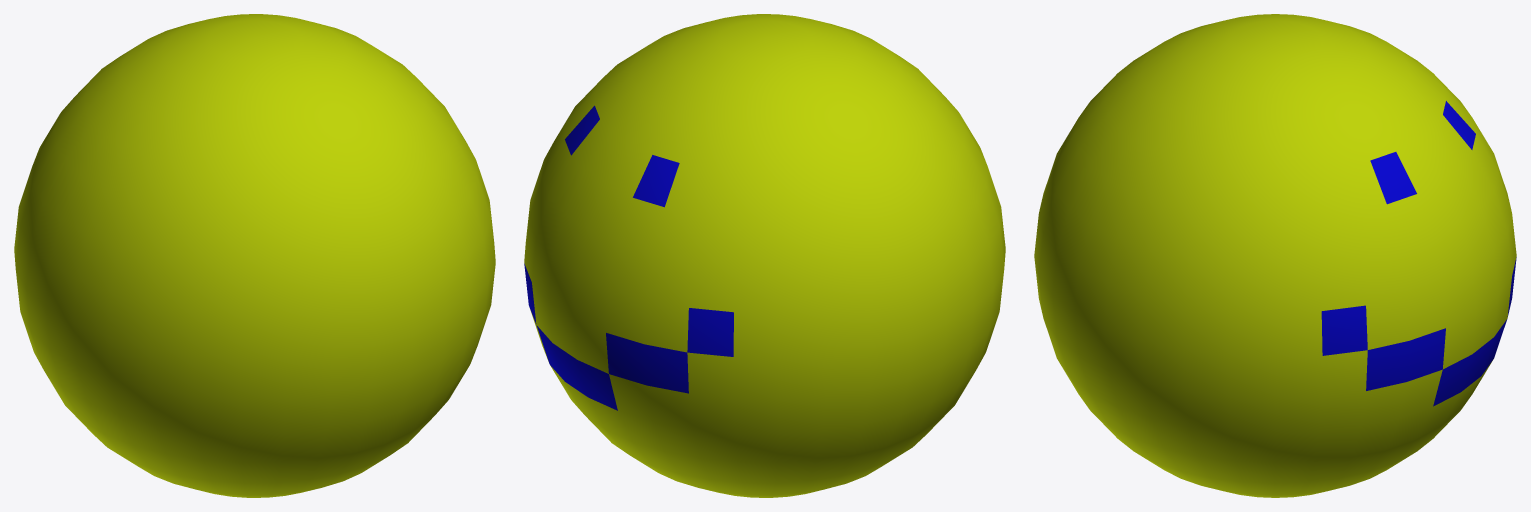
File: smiley.obj
The picture shows the model from 3 angles, left to right: view 1: azimuth 30°, elevation 25°; view 2: azimuth 150°, elevation 25°; view 3: azimuth 270°, elevation 25°; orthographic projection.
Parts seen in each view (by area): view 1: Sphere; view 2: Sphere; view 3: Sphere.
Boxes of the visible parts, box(x1,y1,x2,y2) form: Sphere: box(14, 14, 495, 497); Sphere: box(524, 14, 1005, 497); Sphere: box(1034, 14, 1516, 497).
Bounding box in the file's own units: 1.98 × 1.98 × 1.98.
